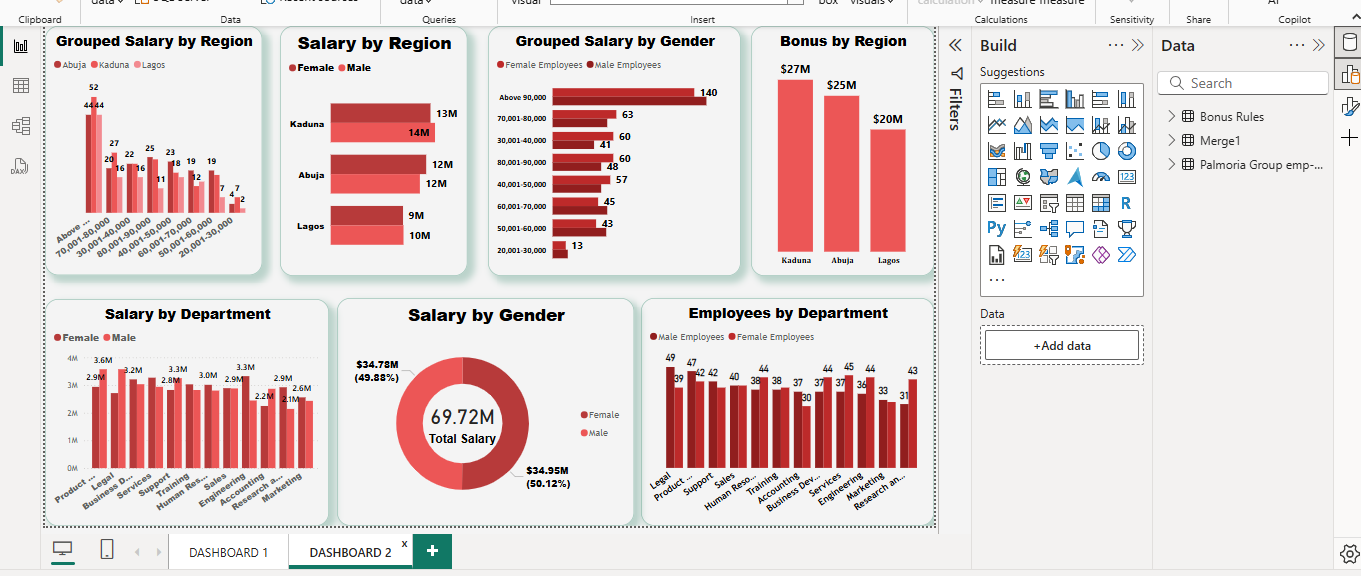

This screenshot's page, from the dashboard's own definition file:
{"tool":"powerbi","page":{"name":"DASHBOARD 2","canvas":[1280,720],"ordinal":1},"visuals":[{"type":"clusteredColumnChart","title":"Salary by  Department","fields":{"Category":["Palmoria Group emp-data (1).Department"],"Series":["Palmoria Group emp-data (1).Gender"],"Y":["Sum(Palmoria Group emp-data (1).Salary)"]},"box":[0,393.1,409,326.9],"z":0},{"type":"clusteredBarChart","title":"Salary by Region","fields":{"Series":["Palmoria Group emp-data (1).Gender"],"Category":["Palmoria Group emp-data (1).Location"],"Y":["Sum(Palmoria Group emp-data (1).Salary)"]},"box":[338,0,270,360],"z":1000},{"type":"clusteredBarChart","title":"Grouped Salary by Gender","fields":{"Category":["Palmoria Group emp-data (1).Grouped Salary by band of 10,000"],"Y":["Palmoria Group emp-data (1).Female Employees","Palmoria Group emp-data (1).Male Employees"]},"box":[638,0,364,360],"z":2000},{"type":"clusteredColumnChart","title":"Grouped Salary by Region","fields":{"Category":["Palmoria Group emp-data (1).Grouped Salary by band of 10,000"],"Series":["Palmoria Group emp-data (1).Location"],"Y":["Palmoria Group emp-data (1).Female Employees"]},"box":[0,0,312.8,359.3],"z":3000},{"type":"clusteredColumnChart","title":"Employees by Department","fields":{"Category":["Palmoria Group emp-data (1).Department"],"Y":["Palmoria Group emp-data (1).Male Employees","Palmoria Group emp-data (1).Female Employees"]},"box":[858,392,422,328],"z":4000},{"type":"donutChart","title":" Salary by Gender","fields":{"Category":["Palmoria Group emp-data (1).Gender"],"Y":["Sum(Palmoria Group emp-data (1).Salary)"]},"box":[420.5,391.7,427.7,328.3],"z":5000},{"type":"columnChart","title":" Bonus by Region","fields":{"Category":["Merge1.Location"],"Y":["Sum(Merge1.Total Salary inclusive of bonus)"]},"box":[1016,0,264,360],"z":6000},{"type":"card","fields":{"Values":["Sum(Palmoria Group emp-data (1).Salary)"]},"box":[495.4,518.4,211.7,103.7],"z":7000}]}

Visuals, with their boxes on the page's 1280x720 design canvas (x1, y1, x2, y2). These are canvas units, not pixel positions in the 1361x576 screenshot, which may show the page scaled, cropped or inside an application window:
"Salary by  Department" clusteredColumnChart: bbox(0, 393, 409, 720)
"Salary by Region" clusteredBarChart: bbox(338, 0, 608, 360)
"Grouped Salary by Gender" clusteredBarChart: bbox(638, 0, 1002, 360)
"Grouped Salary by Region" clusteredColumnChart: bbox(0, 0, 313, 359)
"Employees by Department" clusteredColumnChart: bbox(858, 392, 1280, 720)
" Salary by Gender" donutChart: bbox(420, 392, 848, 720)
" Bonus by Region" columnChart: bbox(1016, 0, 1280, 360)
card - Sum(Palmoria Group emp-data (1).Salary): bbox(495, 518, 707, 622)
